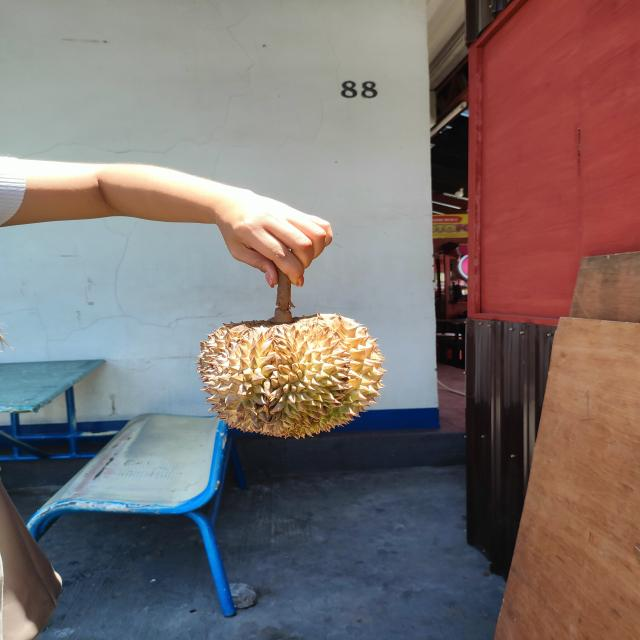mature: (193, 313, 387, 442)
